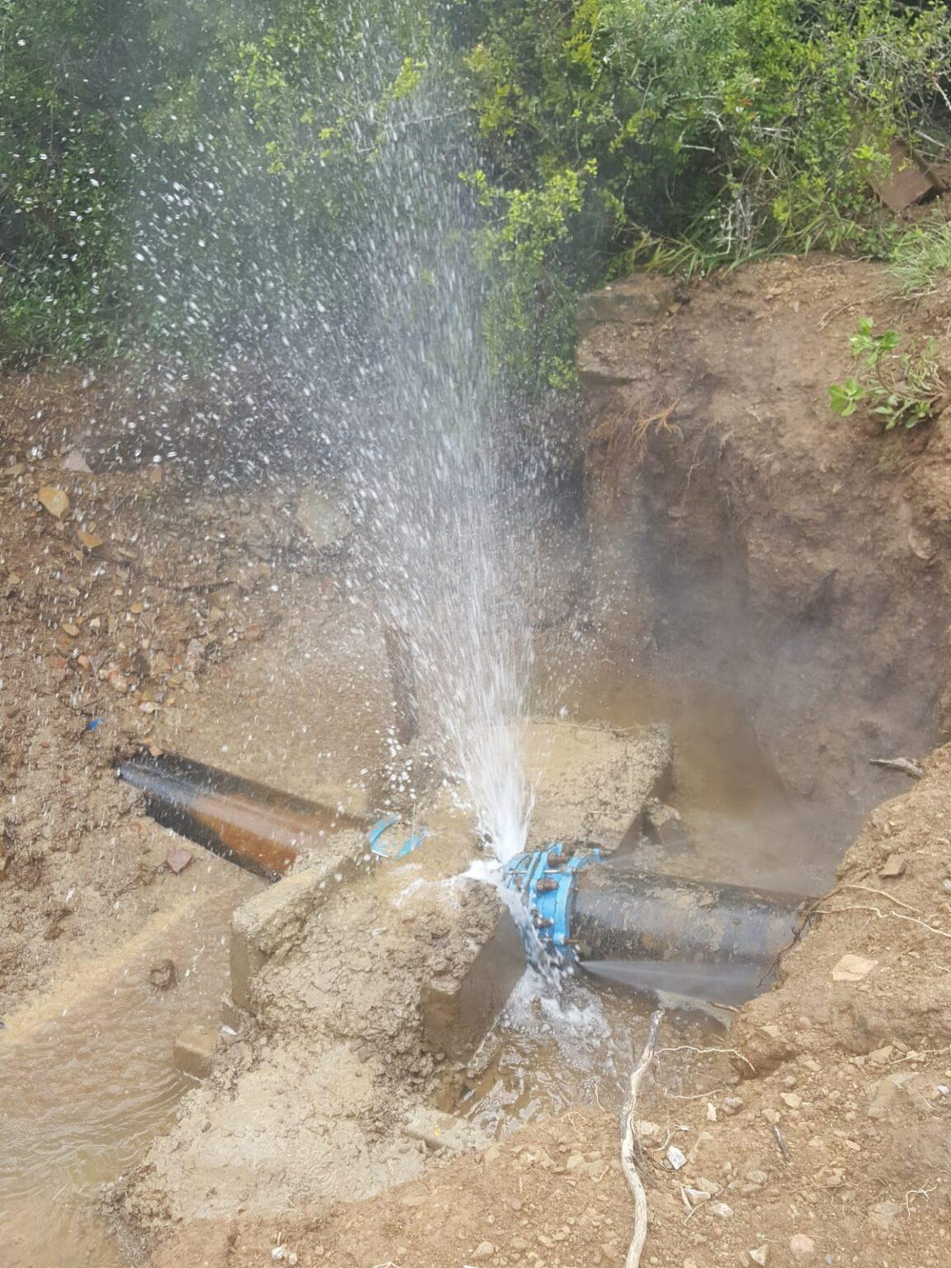water_leak: (140, 142, 697, 1053)
